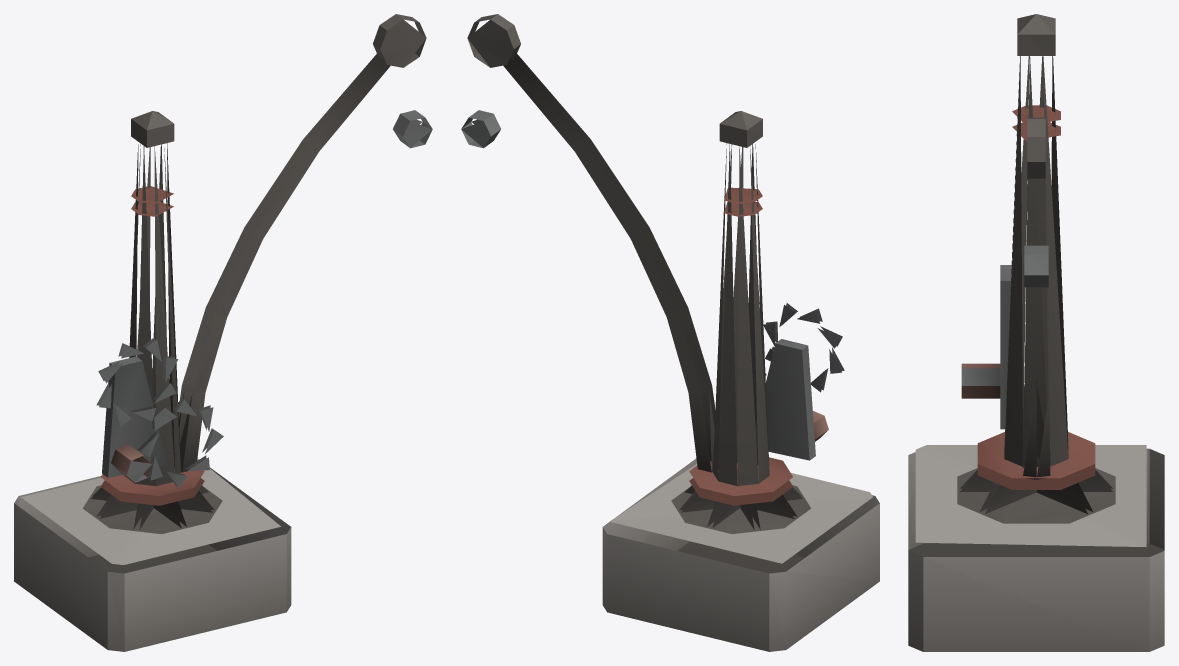
The model's file is crane.lod.glb.
3 renders of one model, left to right at view 1: azimuth 30°, elevation 25°; view 2: azimuth 150°, elevation 25°; view 3: azimuth 270°, elevation 25°, orthographic. The views are drawn at different scales.
Visible parts, largest first — view 1: crane; view 2: crane; view 3: crane.
Boxes of the visible parts, x1,y1,x2,y2 form: crane: (14,14,432,651); crane: (461,14,879,651); crane: (908,14,1164,651).
Size of the model in its own units: 10.55 by 14.2 by 5.28.
